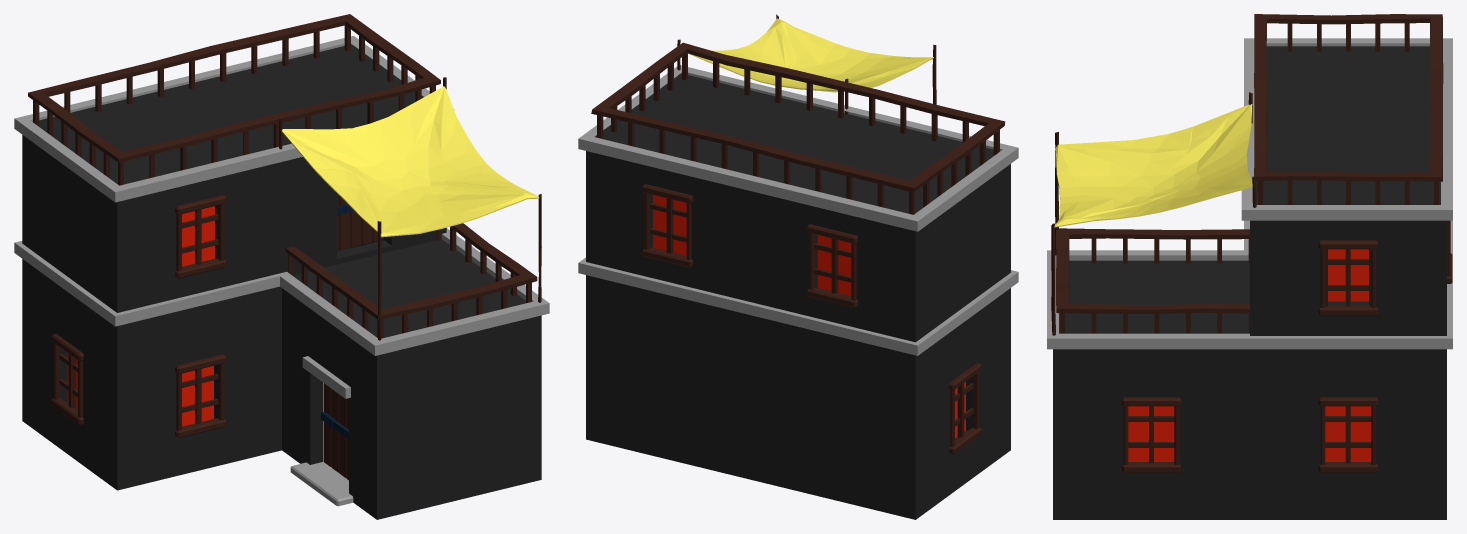
The model's file is civilian_house_33_e.FBX.
The picture shows the model from 3 angles, left to right: view 1: azimuth 30°, elevation 25°; view 2: azimuth 150°, elevation 25°; view 3: azimuth 270°, elevation 25°; orthographic projection. The views are drawn at different scales.
Parts seen in each view (by area): view 1: civilian_house_33_e; view 2: civilian_house_33_e; view 3: civilian_house_33_e.
Boxes of the visible parts, x1,y1,x2,y2 form: civilian_house_33_e: [14, 14, 549, 519]; civilian_house_33_e: [578, 14, 1018, 519]; civilian_house_33_e: [1047, 14, 1452, 519].
Size of the model in its own units: 1030 by 962 by 1030.
